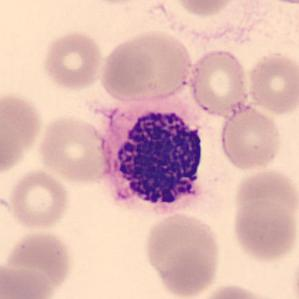Basophil: (92, 97, 210, 222)
RBC: (141, 209, 223, 298), (100, 28, 195, 103), (229, 174, 298, 264), (36, 112, 110, 184), (2, 230, 74, 298), (218, 103, 284, 173), (187, 47, 251, 118), (6, 167, 72, 232), (40, 29, 106, 91), (0, 87, 44, 179), (245, 50, 298, 115), (0, 262, 54, 299), (188, 281, 284, 299), (172, 0, 240, 18), (84, 0, 153, 7), (262, 0, 298, 6)
